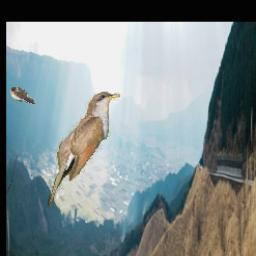Cuckoo: (48, 92, 122, 209)
Swallow: (10, 87, 37, 105)
